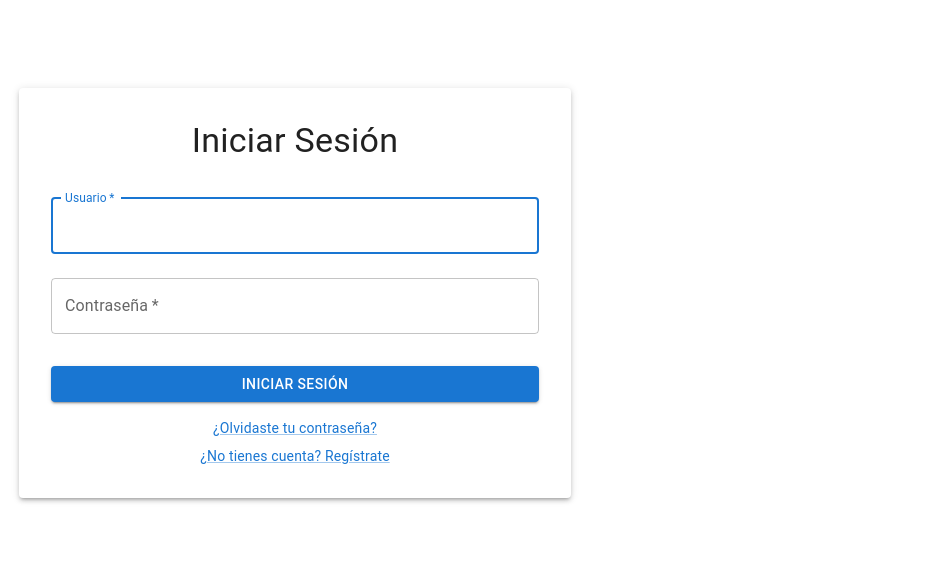
Login Component › handles login failure
Type "testuser" into the field labelled "Usuario *" at (295, 226), box [51, 198, 539, 254]
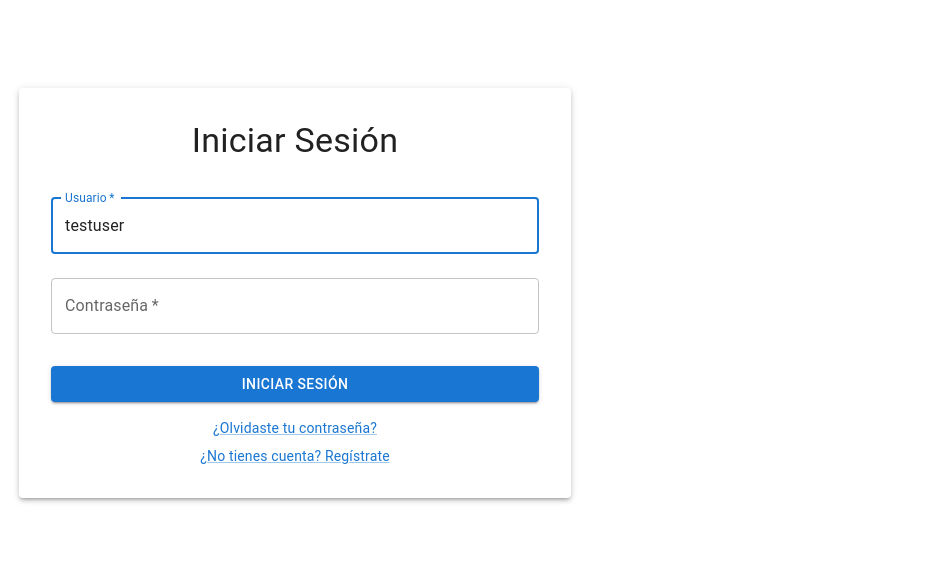
Type "wrongpassword" into the password field labelled "Contraseña *" at (295, 306), box [51, 278, 539, 334]
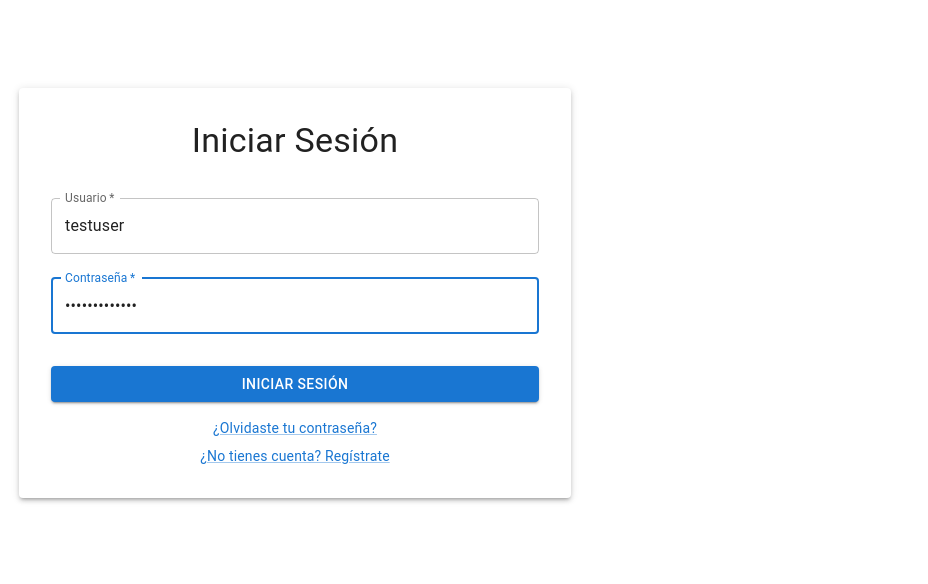
Click the button "Iniciar Sesión" at (295, 384), box [51, 366, 539, 402]
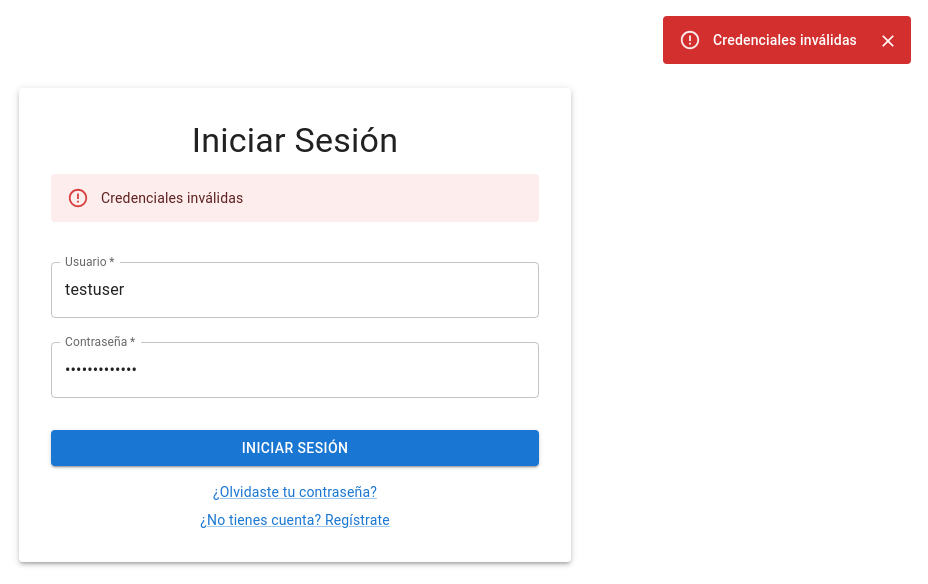
Expected: the text "Credenciales inválidas" is shown, [101, 190, 243, 206]
